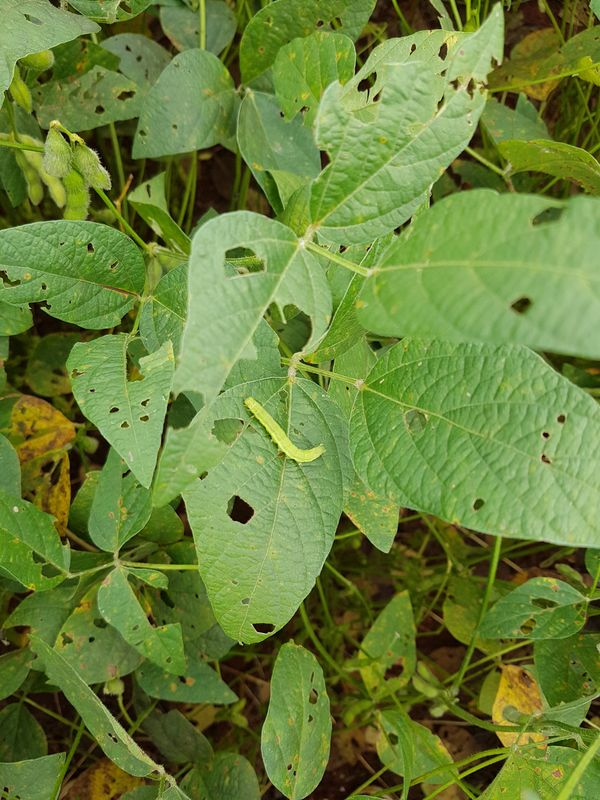Anticarsia_gemmatalis: (233, 387, 335, 484)
